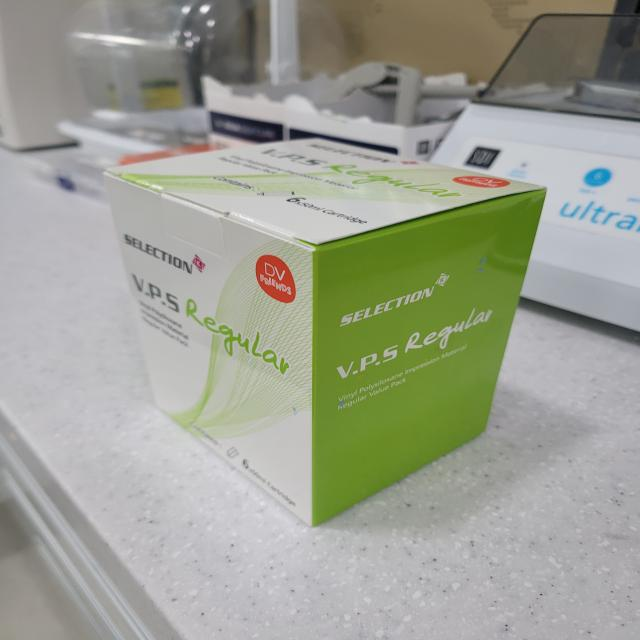impression: (75, 115, 573, 537)
